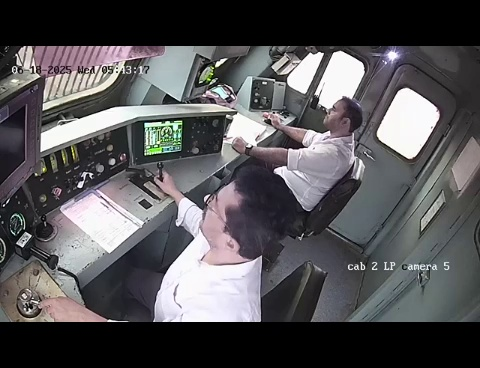brake_applied: (5, 274, 149, 320)
horn_inactive: (24, 202, 74, 246)
